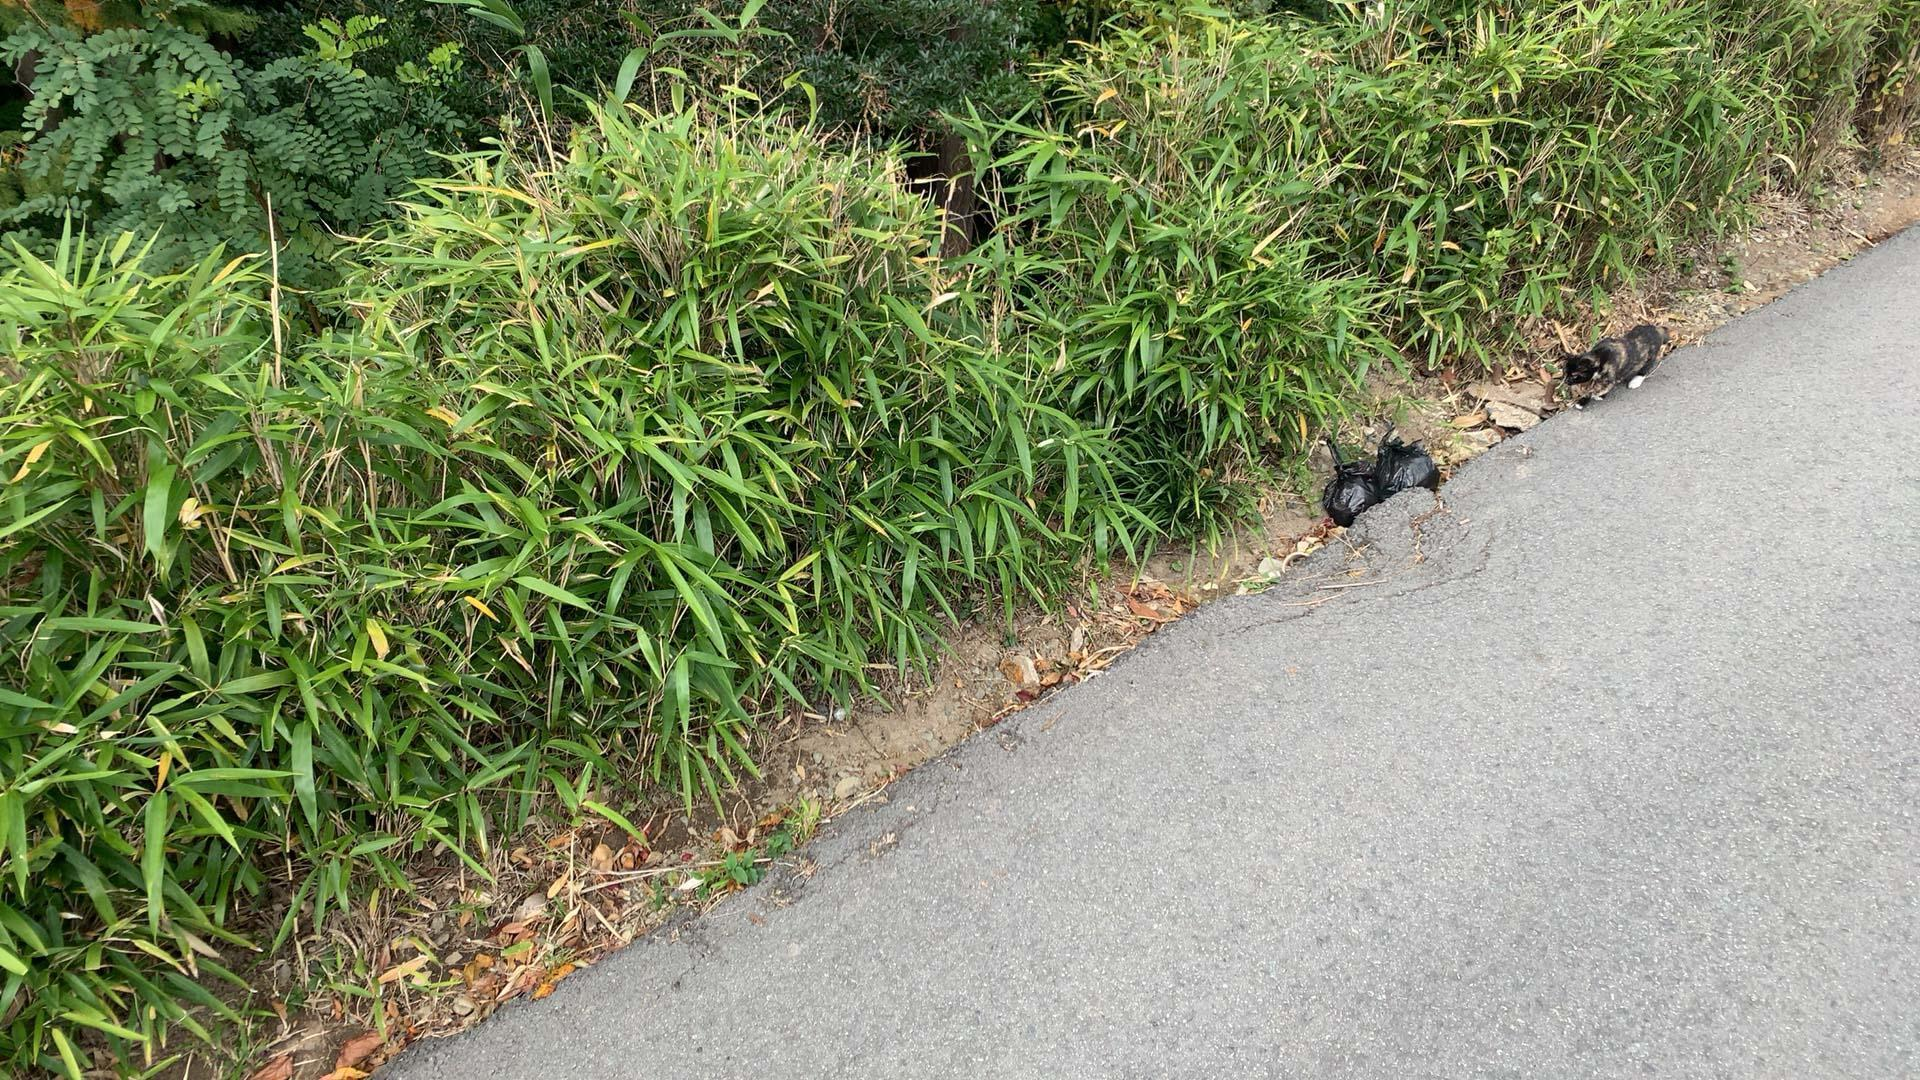black_bag: (1313, 430, 1383, 527), (1370, 433, 1444, 500)
